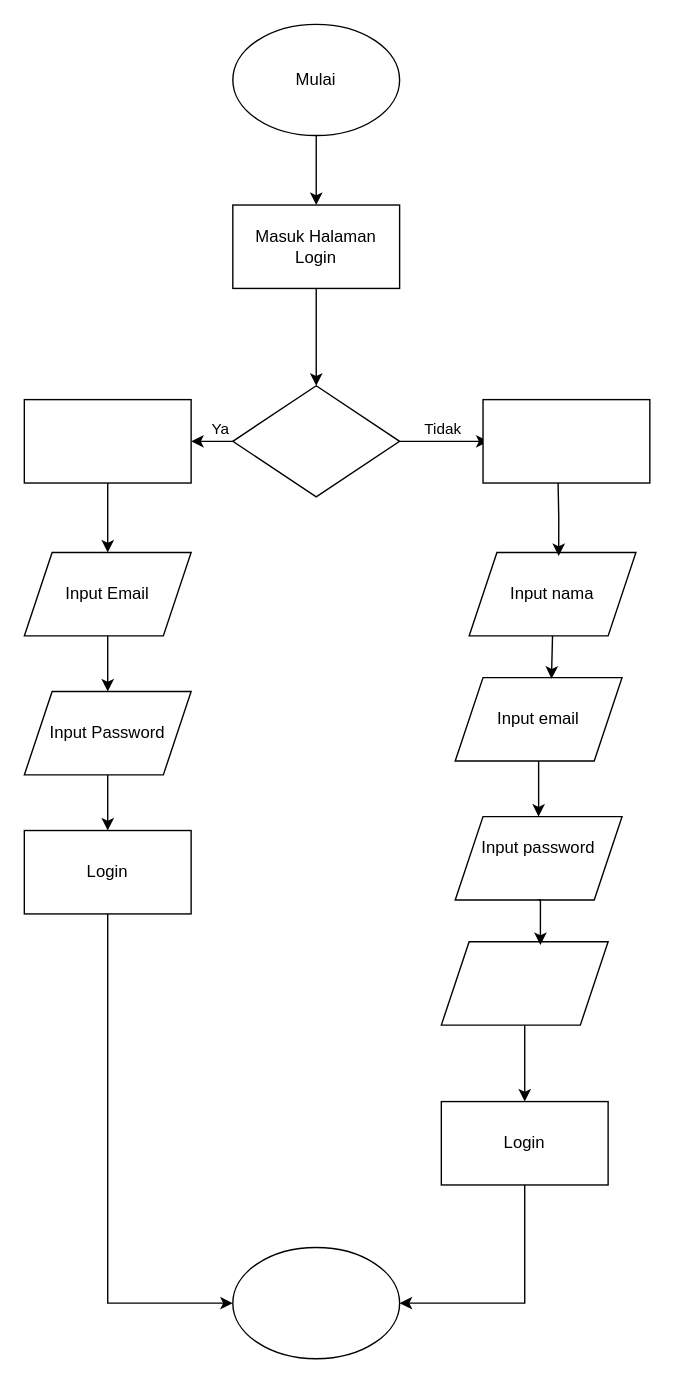
This 674x1383 diagram has some shape labels left out. The shapes that lost their labels are listed below. From the top down, each one's centre as x and y in pixels, then its label:
At (107,440): "Masuk halaman ke login".
At (315,440): "Sudah punya akun?".
At (566,440): "Masuk ke halaman daftar".
At (524,982): "Konfirmasi Password".
At (315,1302): "Selesai".
